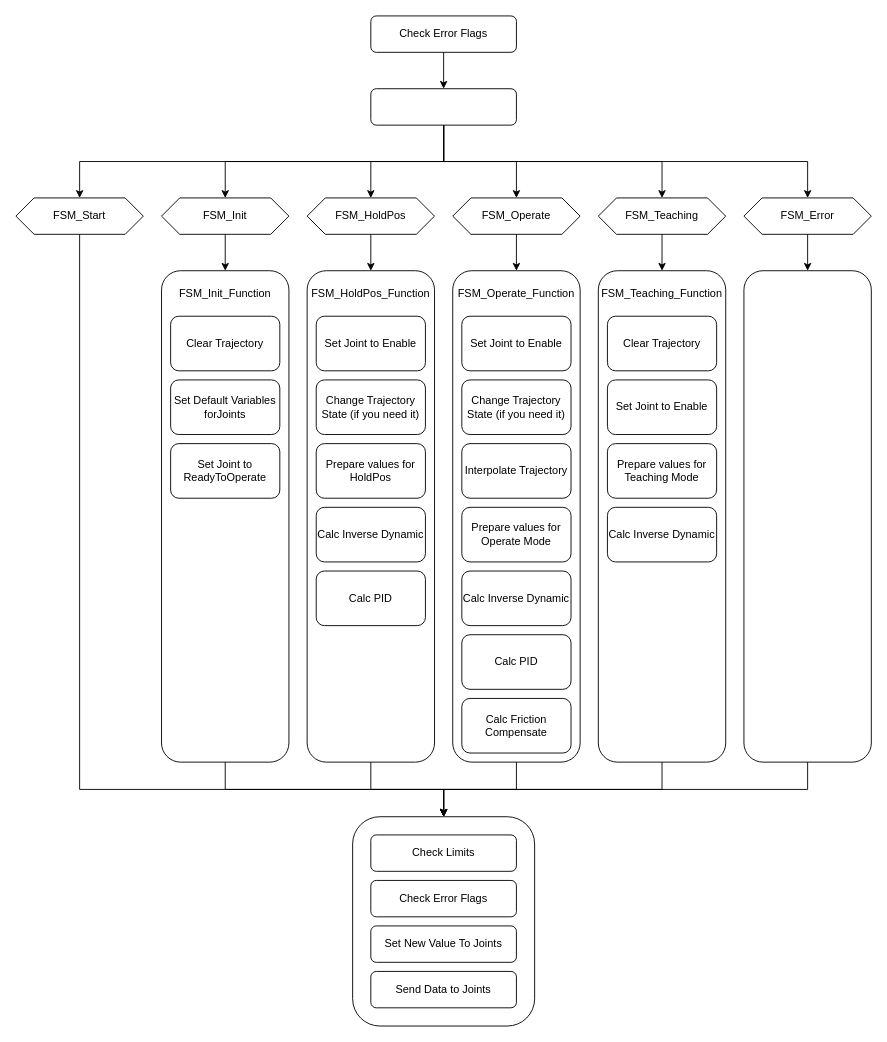
Some shapes in this 887 by 1042 pixel diagram are drawn without their labels. The shapes that lost their labels are listed below. From the top down, each one's centre as x and y in pixels, then its label:
At point (443, 106): "JTC Check State".
At point (807, 516): "Run FSM_Error_Function".
